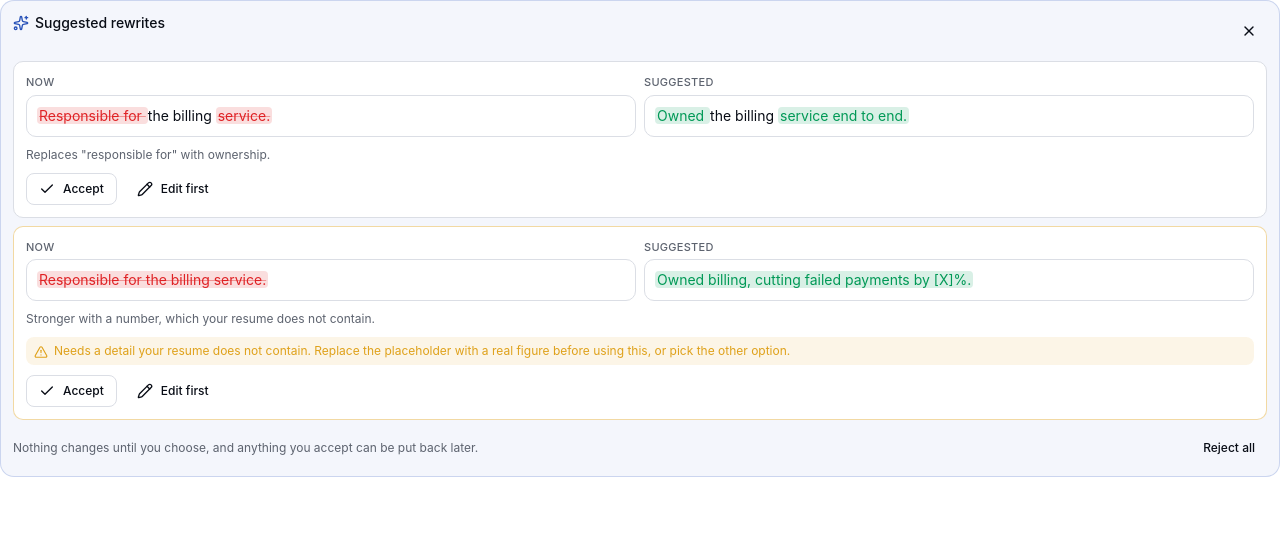
Scenario: RewritePanel › can go back from editing to the original suggestion
What coordinates should you click on to do the following:
click the 1st button "Edit first"
I would click on:
 (173, 188)
Its box is [125,172,221,204].
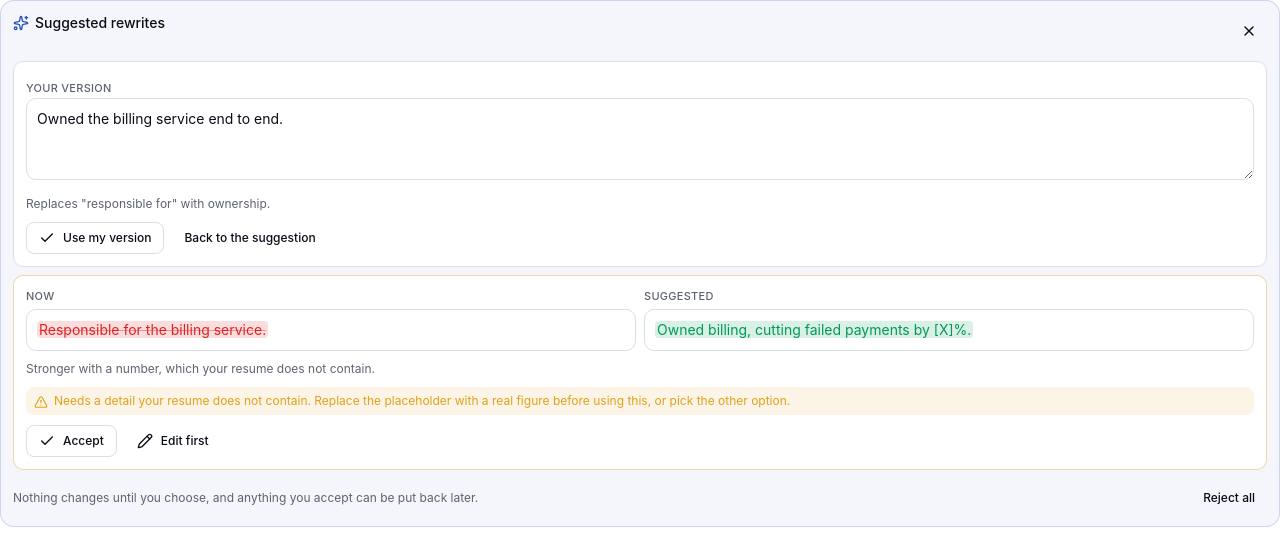
What coordinates should you click on to do the following:
click the button "Back to the suggestion"
I would click on:
 (250, 238)
Its box is [172,222,328,254].
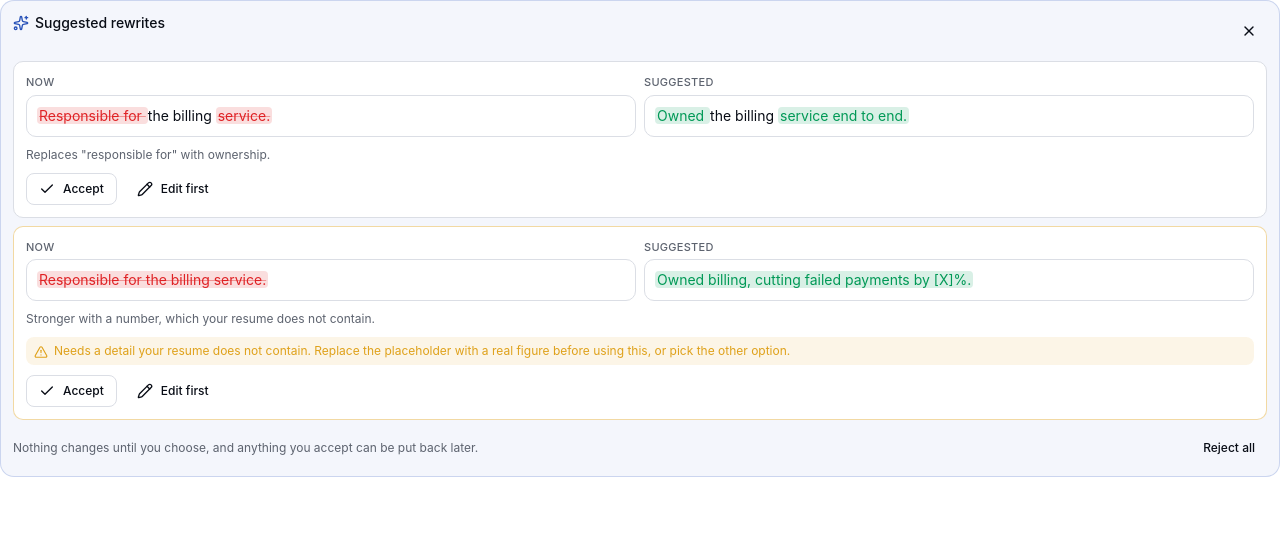
Check: the number of elements with test id "diff-view" is 2, box [26,74,1254,136]; [26,238,1254,301]
